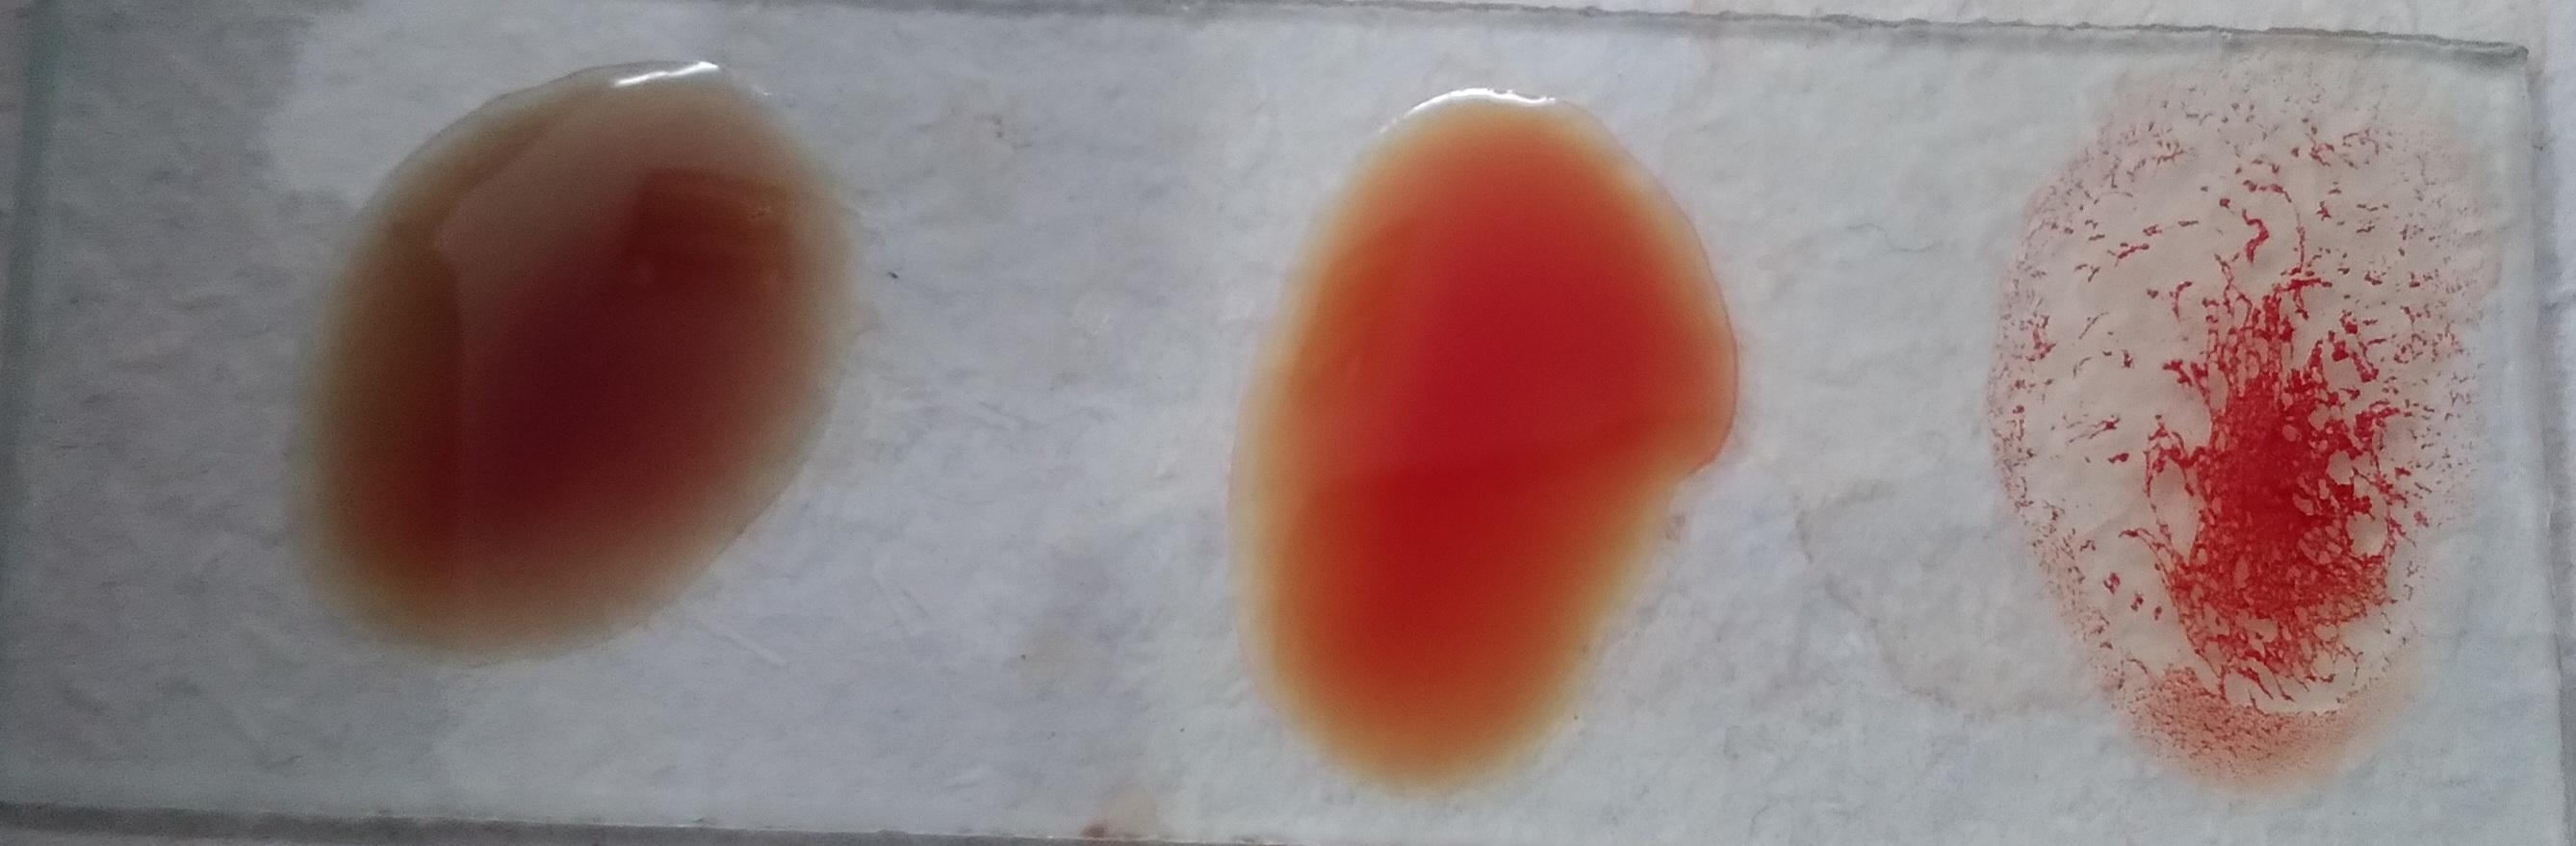D: (102, 72, 555, 772)
